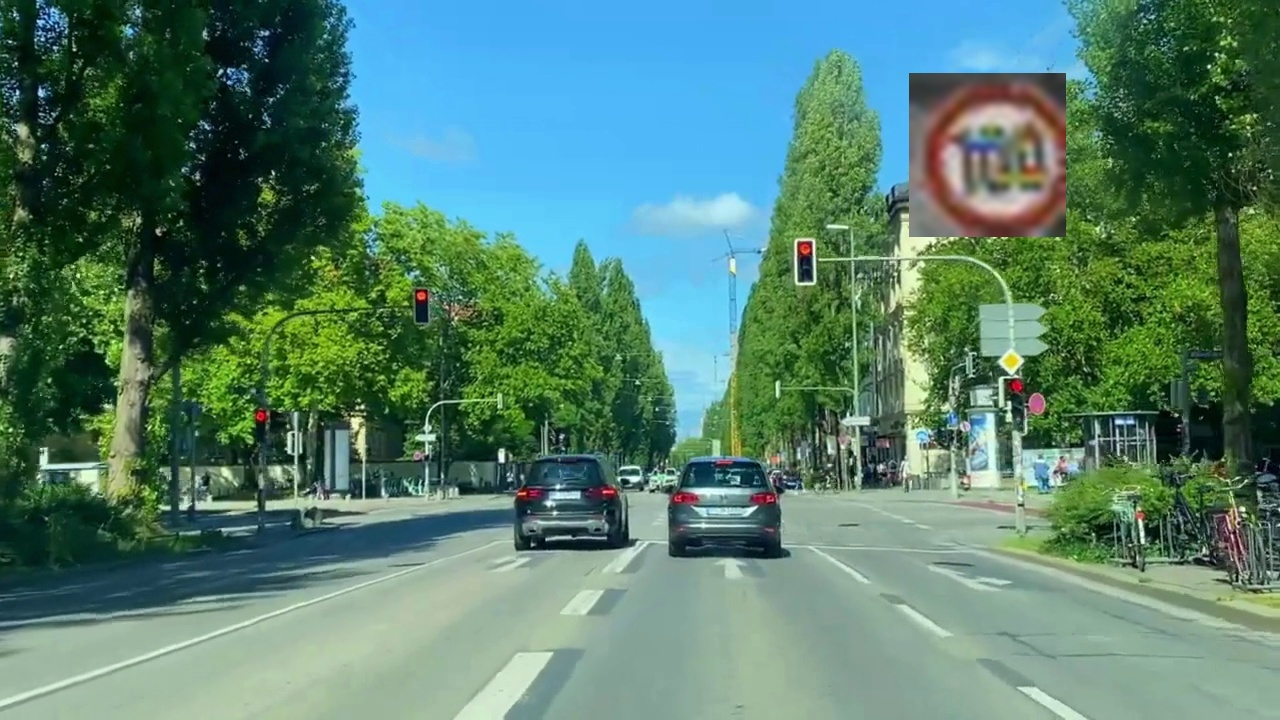Speed 100: (909, 73, 1066, 237)
